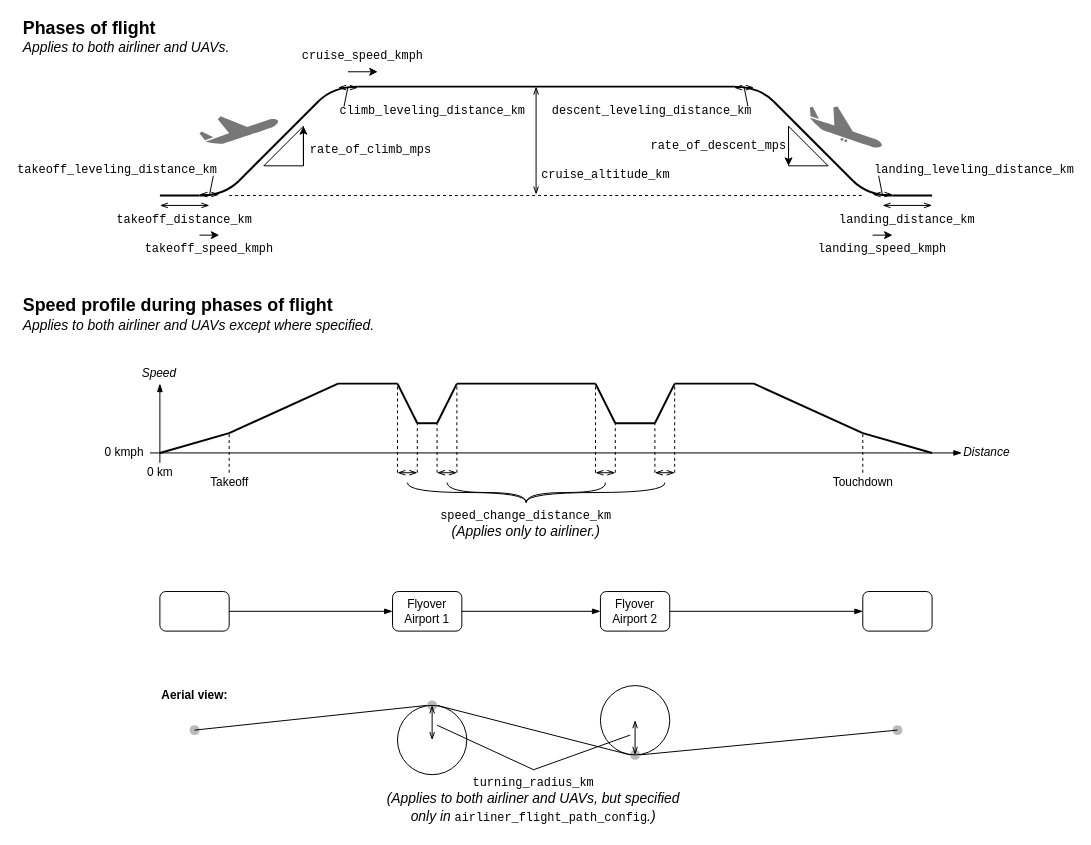
Image size: 1091x845. Some labels were removed from this diagram. The centre of each missing label's shape, as x and y in pixels:
Destination Airport: (x=897, y=611)
Origin Airport: (x=194, y=611)
